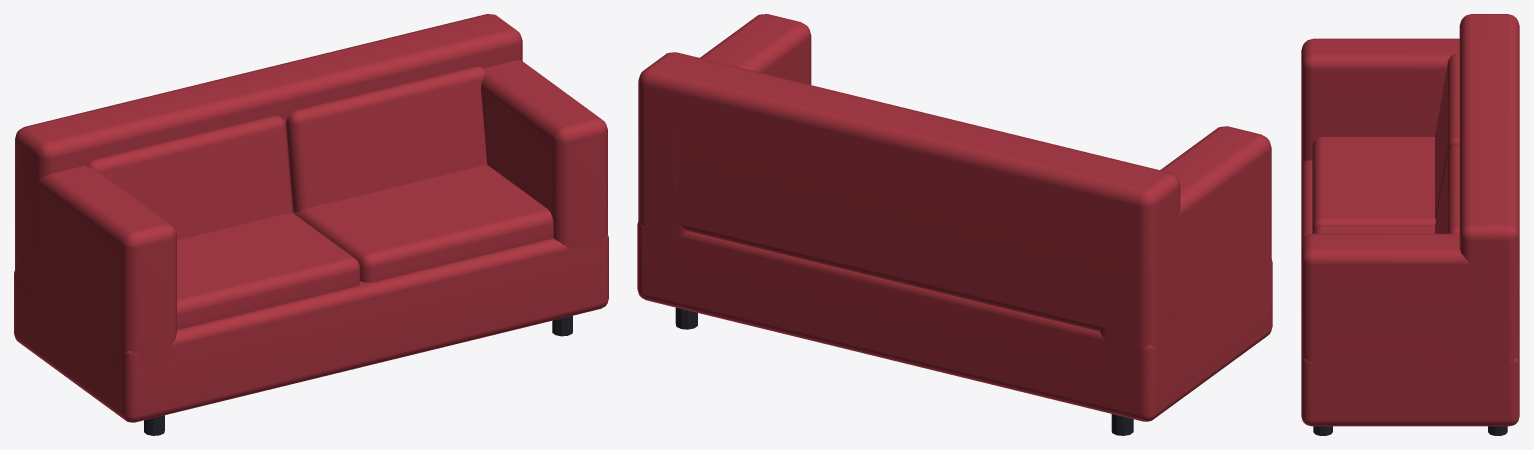
File: Sofa.fbx
3 renders of one model, left to right at view 1: azimuth 30°, elevation 25°; view 2: azimuth 150°, elevation 25°; view 3: azimuth 270°, elevation 25°, orthographic. The views are drawn at different scales.
Parts seen in each view (by area): view 1: Sofa; view 2: Sofa; view 3: Sofa.
Part boxes in pixels (left/top/right/bottom): Sofa: left=14, top=14, right=608, bottom=435; Sofa: left=637, top=14, right=1272, bottom=435; Sofa: left=1301, top=14, right=1519, bottom=435.
Bounding box in the file's own units: 0.19 × 0.089 × 0.08.
